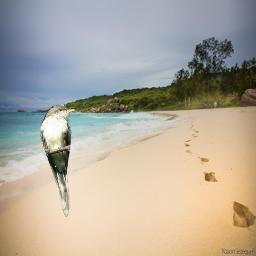Cuckoo: (40, 104, 77, 217)
